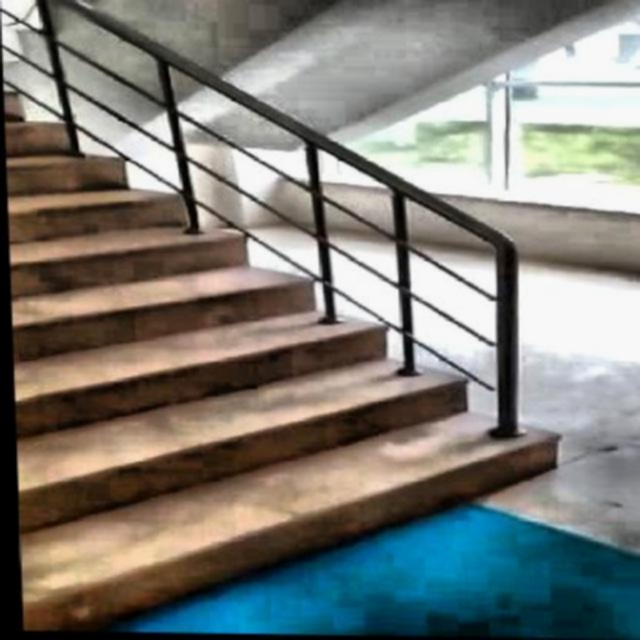stair: (3, 43, 611, 639)
